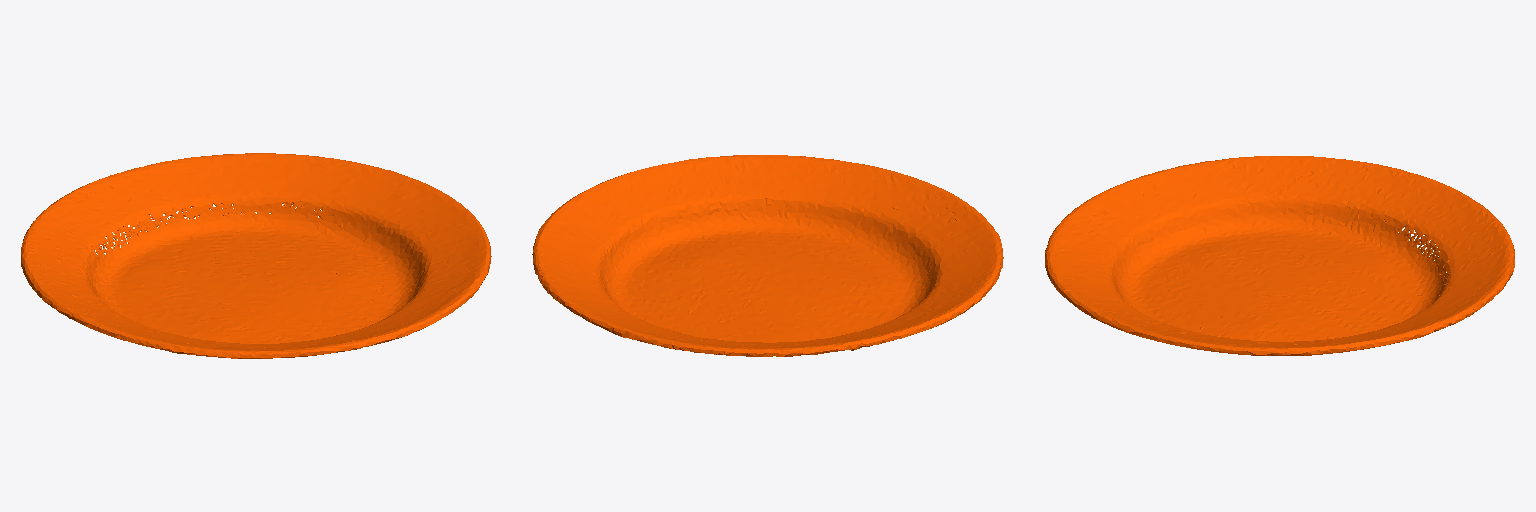
The robot description file, URDF, robot "029_plate":
<?xml version="1.0" ?>
<robot name="029_plate">
   <material name="obj_color">
      <color rgba="1.0 0.423529411765 0.0392156862745 1.0"/>
   </material>
   <link name="top">
      <inertial>
         <origin rpy="0.0005171385648420267 0.0005212317860011858 0.001018288952182066" xyz="0.004175924676812462 -0.01268177122256695 -0.0006996176402470701"/>
         <mass value="0.1133504482353599"/>
         <inertia ixx="0.0005180129447886526" ixy="-1.647772494644269e-06" ixz="-2.61083241398496e-06" iyy="0.0005204014063360126" iyz="-3.897445608176703e-06" izz="0.001018244951900613"/>
      </inertial>
      <visual>
         <origin rpy="0 0 0" xyz="0 0 0"/>
         <geometry>
            <mesh filename="top_watertight_tiny.stl" scale="1 1 1"/>
         </geometry>
         <material name="obj_color"/>
      </visual>
      <collision>
         <origin rpy="0 0 0" xyz="0 0 0"/>
         <geometry>
            <mesh filename="top_watertight_tiny.obj" scale="1 1 1"/>
         </geometry>
      </collision>
   </link>
   <link name="bottom">
      <inertial>
         <origin rpy="1.633333333199431e-08 1.633333333199431e-08 1.633333333362855e-08" xyz="0.3464080000000008 0.3464080000000008 0.3464080000000008"/>
         <mass value="0.0009800000000000017"/>
         <inertia ixx="1.633333333253906e-08" ixy="5.447480642029219e-19" ixz="5.447480642029219e-19" iyy="1.633333333253906e-08" iyz="5.447480642029219e-19" izz="1.633333333253906e-08"/>
      </inertial>
      <visual>
         <origin rpy="0 0 0" xyz="0 0 0"/>
         <geometry>
            <mesh filename="bottom_watertight_tiny.stl" scale="1 1 1"/>
         </geometry>
         <material name="obj_color"/>
      </visual>
   </link>
   <joint name="rotation" type="revolute">
      <origin xyz="0 0 0"/>
      <axis xyz="0 0 -1"/>
      <parent link="bottom"/>
      <child link="top"/>
      <dynamics damping="1.0" friction="1.0"/>
      <limit effort="0.1" velocity="0.1" lower="0" upper="0.001"/>
   </joint>
</robot>

--- What the picture shows (computed from the rendered views, not written in the file) ---
3 views of the same robot in one strip: view 1: azimuth 30°, elevation 25°; view 2: azimuth 150°, elevation 25°; view 3: azimuth 270°, elevation 25° (orthographic).
Robot: 029_plate — 2 links, 1 joints (1 revolute); root link bottom; default pose: every joint at zero.
Visible links, largest first — view 1: top; view 2: top; view 3: top.
Link boxes in pixels (x1=…): top: x1=21, y1=153, x2=491, y2=358; top: x1=532, y1=155, x2=1003, y2=356; top: x1=1045, y1=156, x2=1514, y2=355.
Bounding box of the posed robot: 0.2602 × 0.2611 × 0.0267 m (x, y, z).
1 mesh visuals loaded from 2 distinct referenced files (1 binary STL); not drawn: 1 (reference not matched to a file when rendering).
